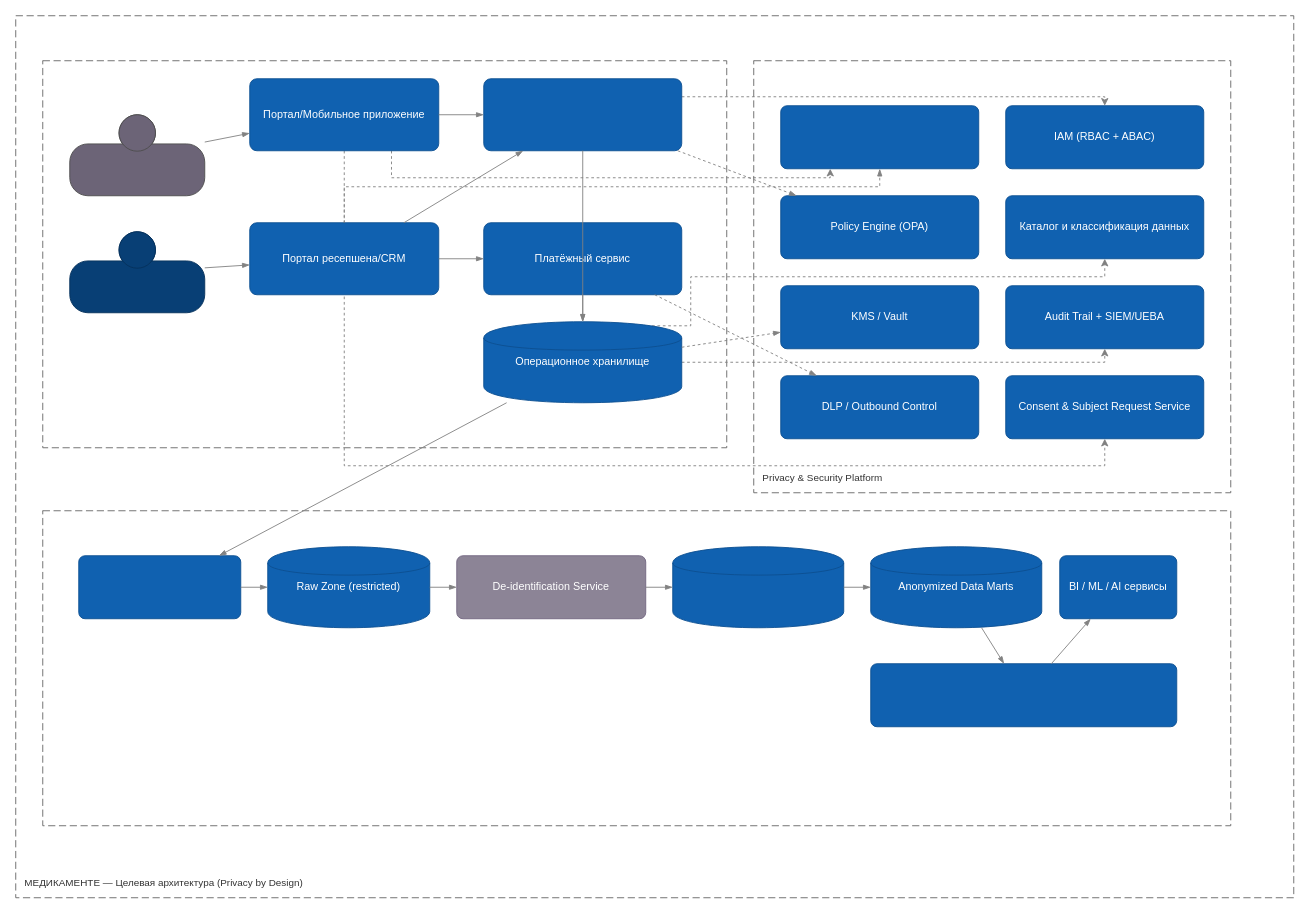
Image size: 1310x914. Some labels were removed from this diagram. Each missing label, with the box of its shape:
Analytics Access Gateway: (870, 663, 1177, 727)
API Gateway + WAF: (780, 105, 979, 169)
Ingestion / ETL: (78, 555, 241, 619)
Trusted / Curated Zone: (672, 546, 844, 628)
Аналитический слой (Privacy by Design): (42, 510, 1231, 826)
Клиентские и операционные сервисы: (42, 60, 727, 448)
Пациент: (69, 114, 205, 196)
Сервис записи и расписания: (483, 78, 682, 151)
Сотрудник: (69, 231, 205, 313)
